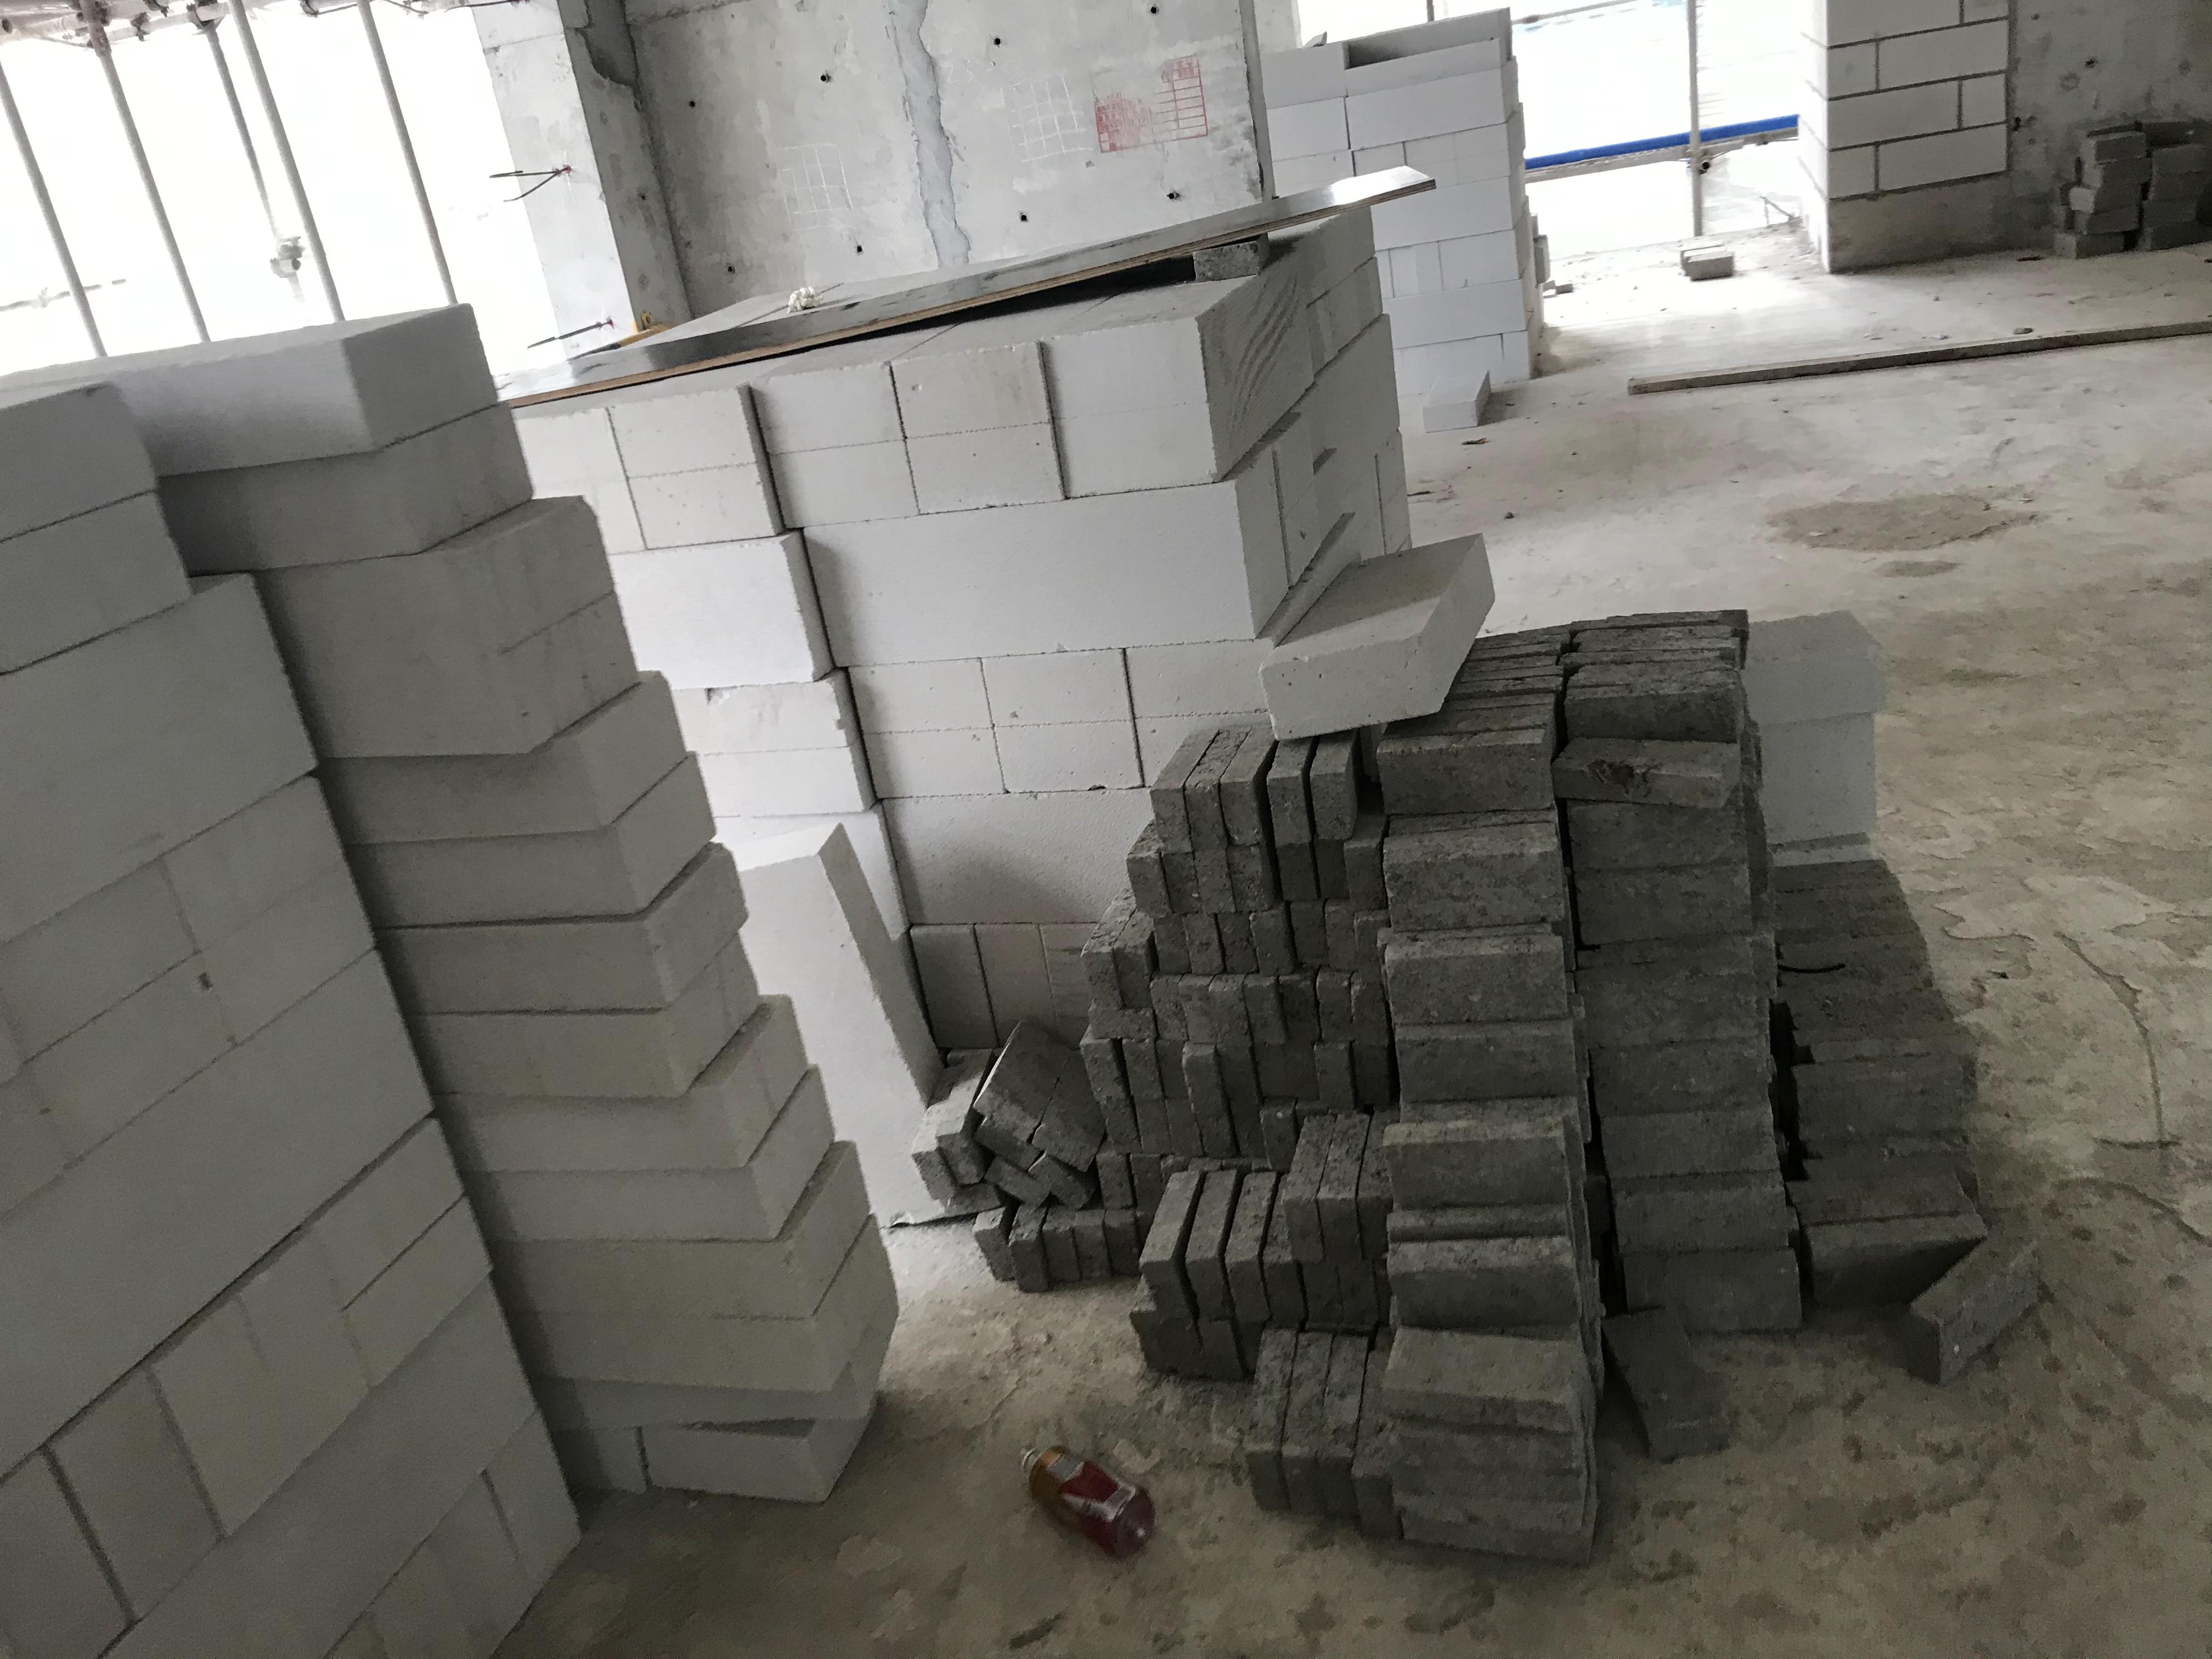brick: (0, 288, 890, 1659), (510, 214, 1420, 1227), (972, 615, 1890, 1549), (1268, 5, 1543, 423)
